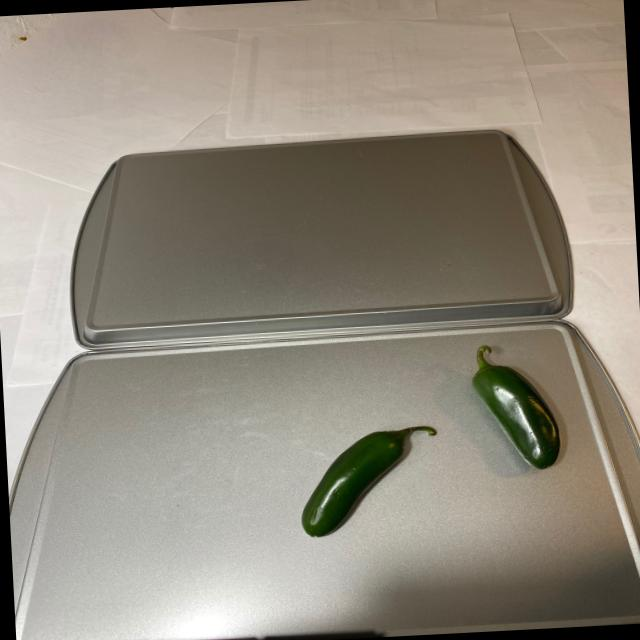chilli: (283, 334, 577, 549)
